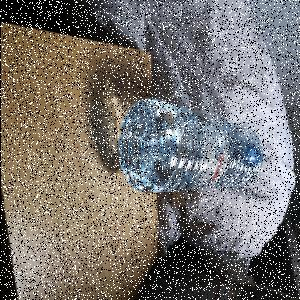Plastic-bottle: (118, 98, 265, 196)
